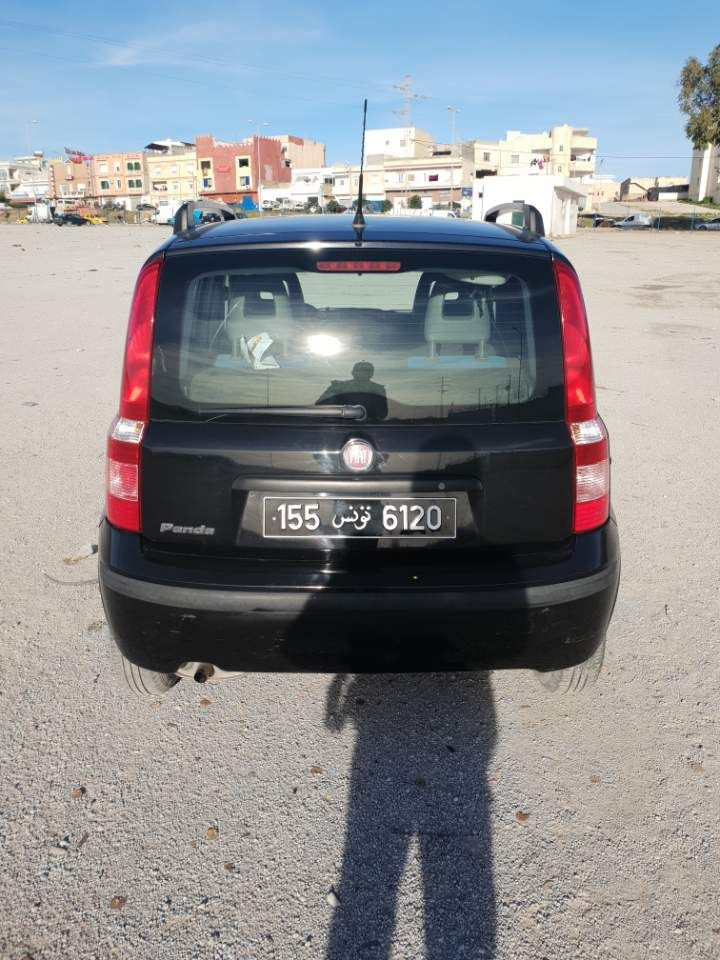LP: (262, 496, 457, 539)
